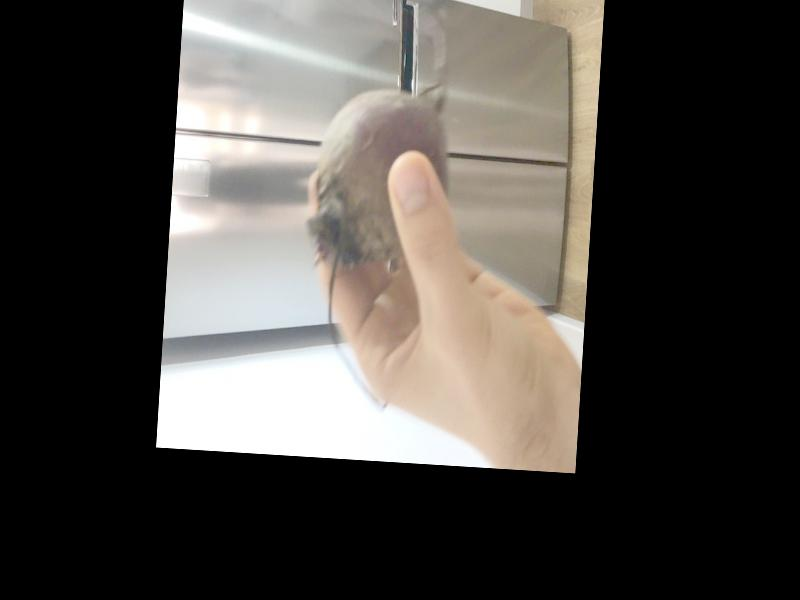Beet: (295, 54, 454, 411)
